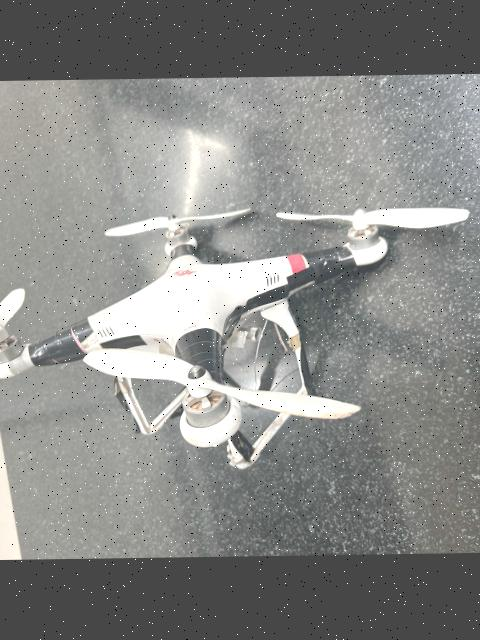drone: (0, 113, 480, 502)
